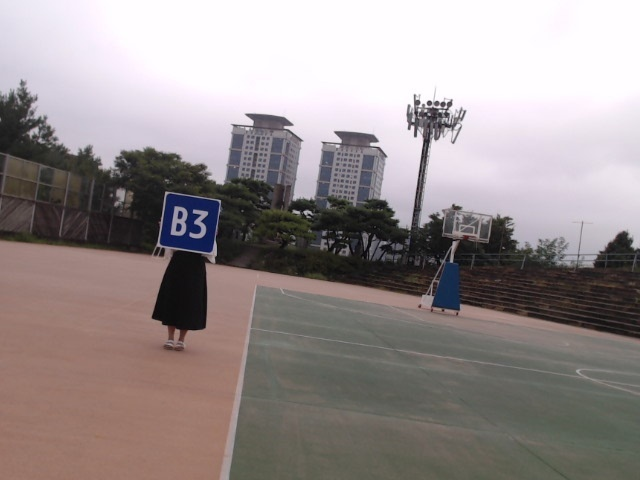delivery_b3: (159, 192, 220, 253)
